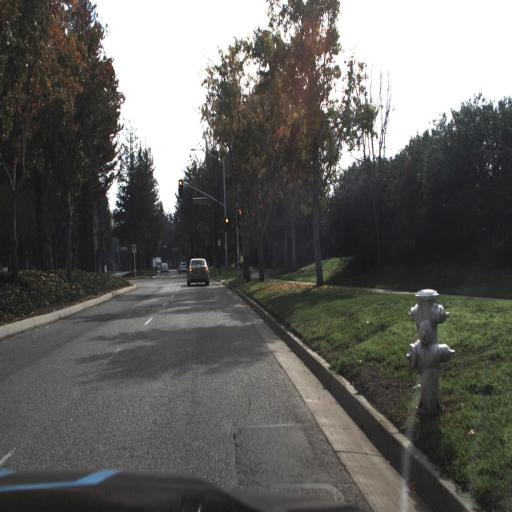car: (186, 257, 211, 284)
trafficLight-Red: (223, 215, 229, 235), (238, 206, 244, 226), (177, 178, 184, 194)
truck: (151, 254, 162, 272)
